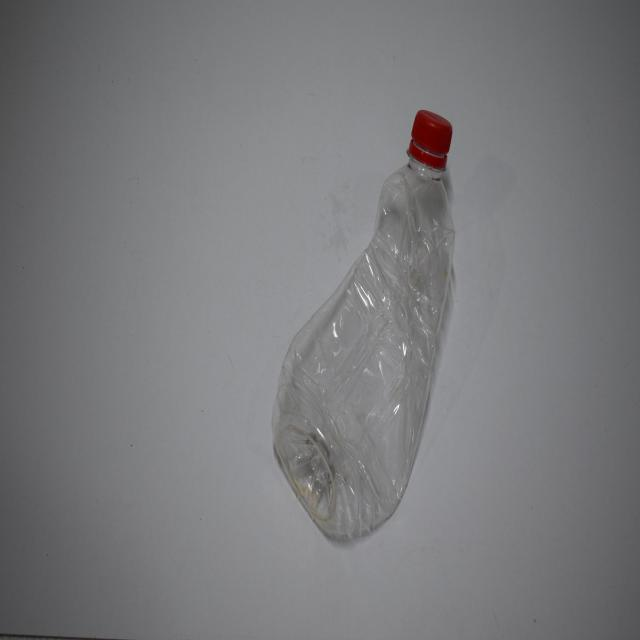bottle: (268, 91, 468, 553)
